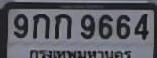4: (134, 13, 147, 39)
6: (98, 13, 112, 38), (116, 14, 129, 38)
9: (80, 13, 94, 38), (13, 13, 27, 37)
A01: (32, 13, 49, 38), (54, 13, 71, 38)
